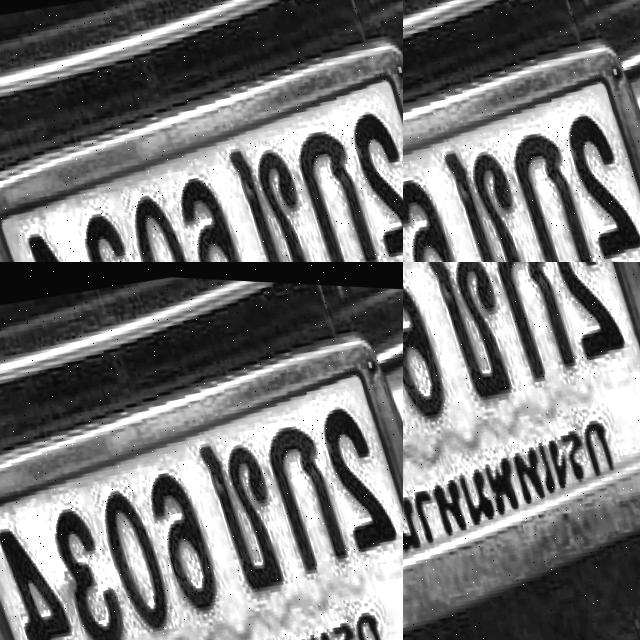license-plate: (22, 324, 403, 640), (403, 262, 640, 640)
